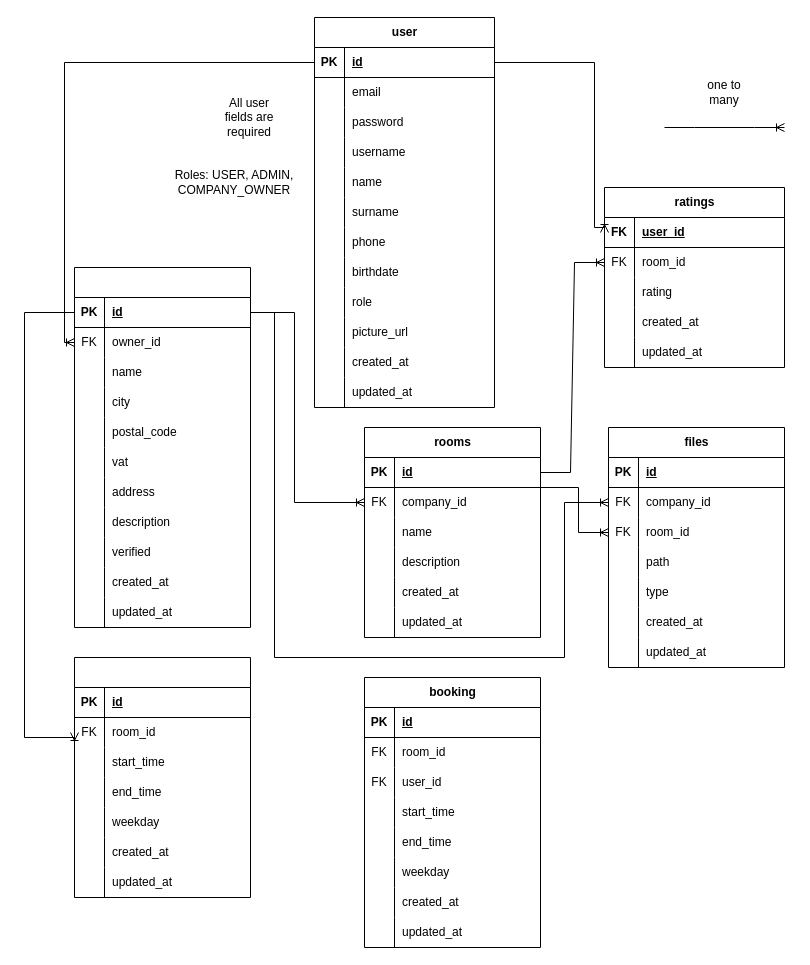
The diagram is 810 pixels wide and 965 high, and some of its shapes have lost their labels. Each missing label, with the box of its shape:
companies: (74, 266, 250, 628)
time_slots: (74, 656, 250, 898)
